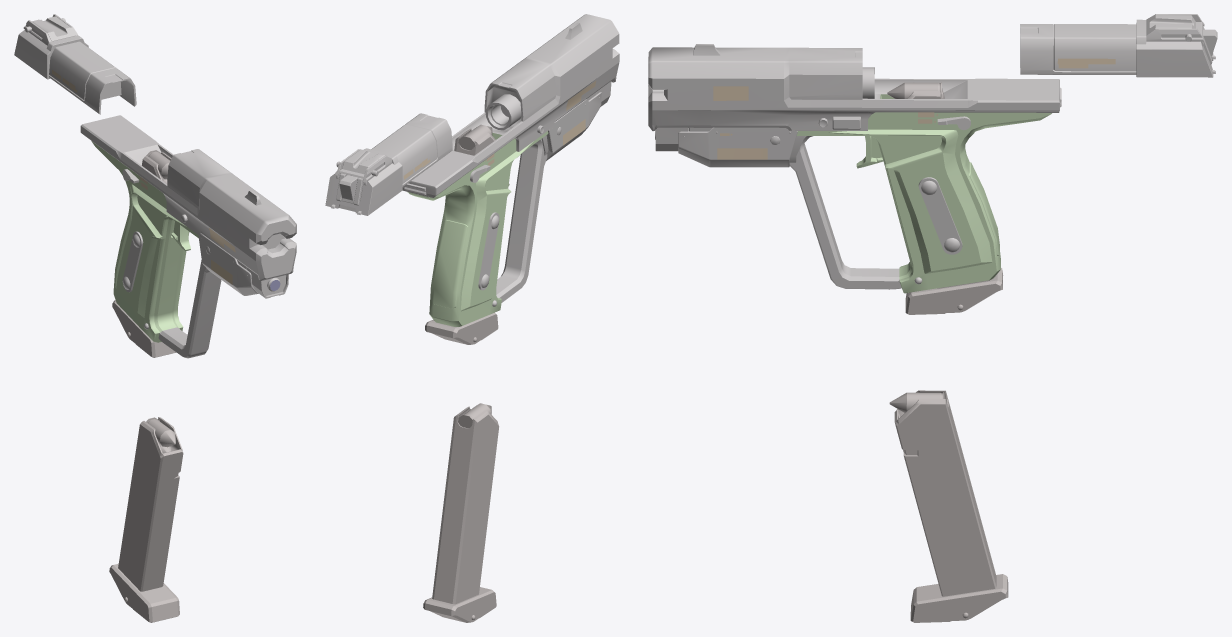
File: TestRig_v1.fbx
3 renders of one model, left to right at view 1: azimuth 30°, elevation 25°; view 2: azimuth 150°, elevation 25°; view 3: azimuth 270°, elevation 25°, orthographic. The views are drawn at different scales.
Parts seen in each view (by area): view 1: M6C_Body, M6C_Magazine2, M6C_Slide, M6C_Magazine1; view 2: M6C_Body, M6C_Magazine2, M6C_Slide, M6C_Magazine1; view 3: M6C_Body, M6C_Magazine2, M6C_Slide, M6C_Magazine1.
Boxes of the visible parts, box(x1,y1,x2,y2) form: M6C_Body: box(80, 115, 296, 358); M6C_Magazine2: box(109, 417, 183, 622); M6C_Slide: box(14, 14, 136, 114); M6C_Magazine1: box(112, 150, 176, 357); M6C_Body: box(402, 14, 619, 326); M6C_Magazine2: box(423, 403, 499, 622); M6C_Slide: box(325, 113, 452, 215); M6C_Magazine1: box(425, 124, 498, 344); M6C_Body: box(648, 44, 1061, 293); M6C_Magazine2: box(889, 390, 1008, 622); M6C_Slide: box(1020, 14, 1217, 77); M6C_Magazine1: box(887, 82, 1003, 314).
Size of the model in its own units: 3.5 by 37.91 by 32.92.
